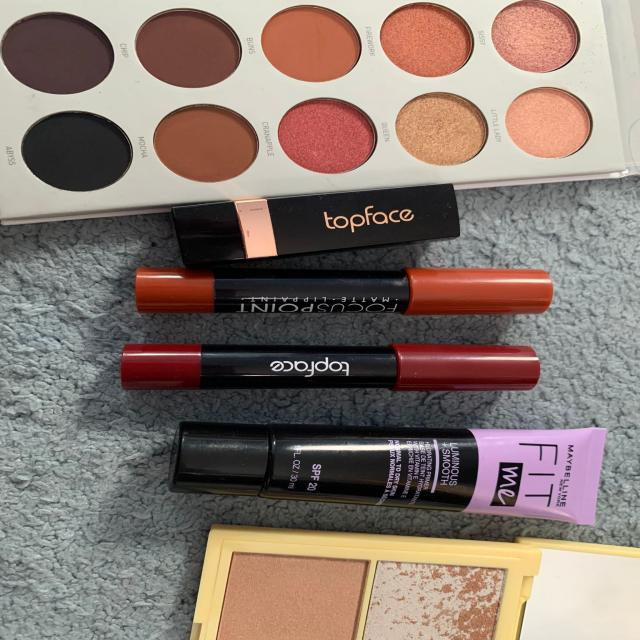eye shade: (215, 538, 612, 635)
foundation: (175, 418, 626, 514)
highlighter: (11, 0, 632, 195)
lip stick: (113, 341, 556, 398), (126, 266, 592, 320), (182, 196, 482, 260)
